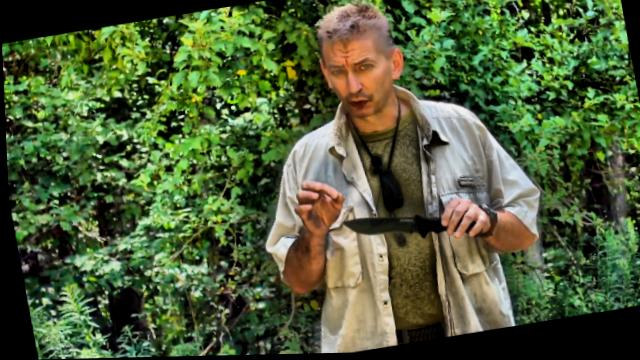knife: (337, 195, 476, 262)
